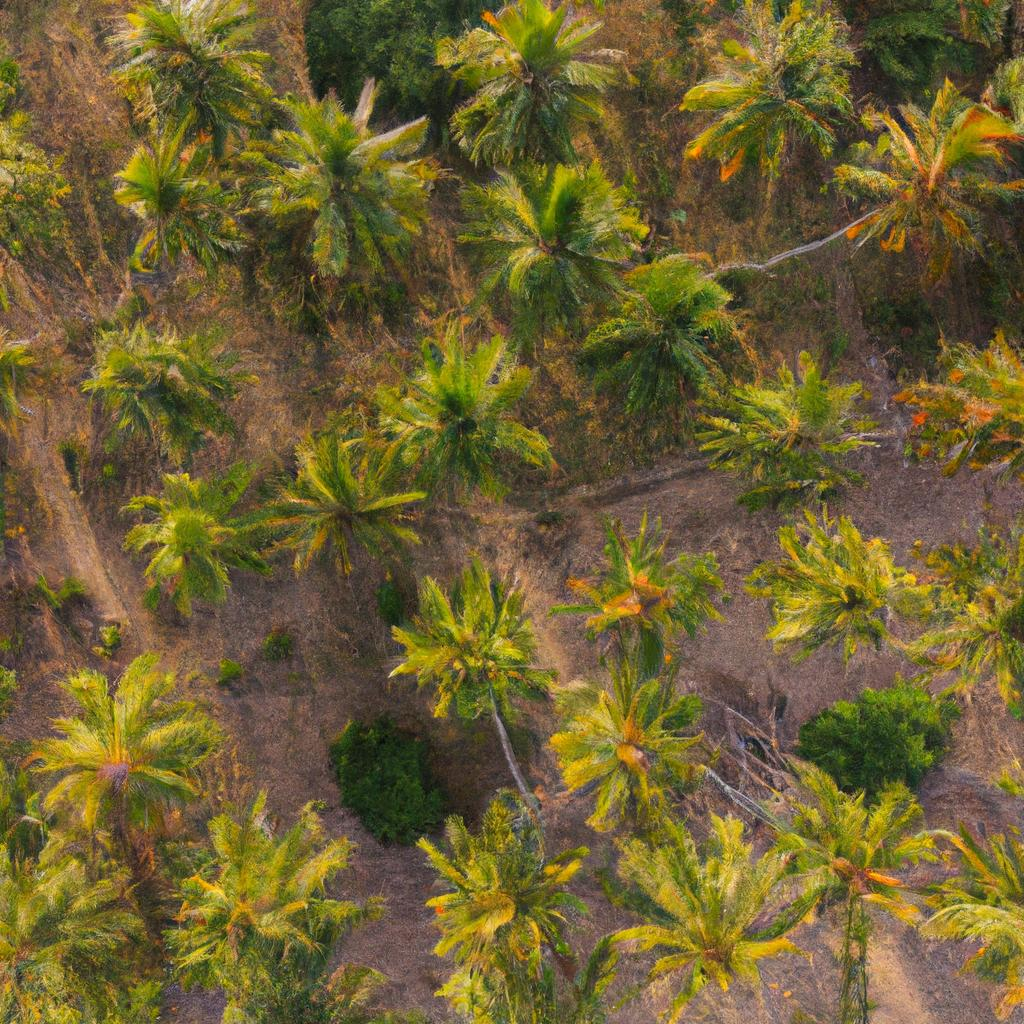coconut_tree: (174, 810, 374, 1021), (257, 83, 434, 288), (594, 816, 793, 994), (116, 456, 316, 626), (35, 648, 213, 835), (364, 331, 559, 501), (834, 93, 1018, 272), (429, 1, 628, 159), (680, 35, 850, 204), (391, 556, 550, 734), (543, 681, 726, 826), (462, 170, 647, 301), (740, 530, 929, 654), (701, 374, 870, 512)
